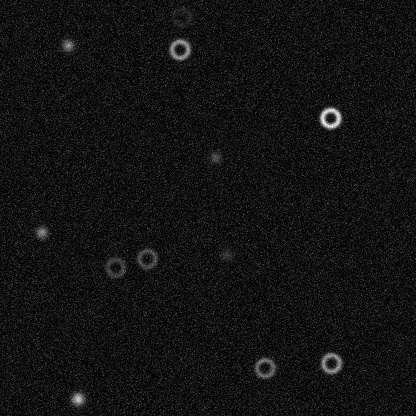Ring: (135, 246, 159, 270), (319, 351, 343, 375), (252, 355, 276, 379), (167, 37, 191, 61), (318, 105, 342, 129), (169, 4, 193, 28), (103, 255, 127, 279)
Spot: (218, 246, 234, 262), (59, 37, 75, 53), (69, 390, 85, 406), (207, 149, 223, 165), (33, 224, 49, 240)
